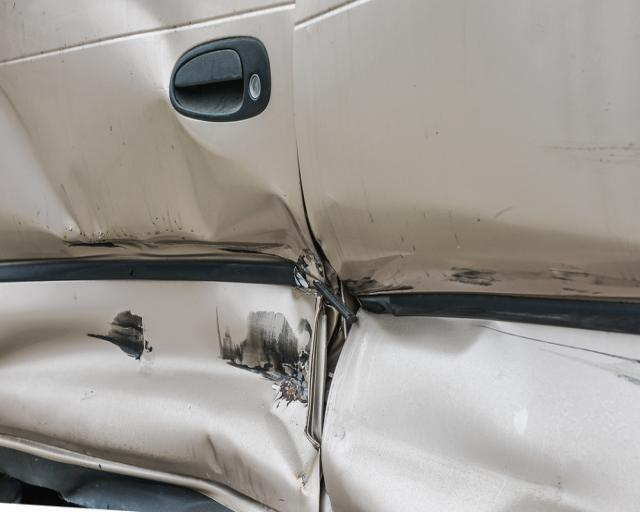dent: (0, 0, 322, 511), (318, 204, 574, 512)
scratch: (528, 335, 640, 386), (552, 267, 640, 297)
